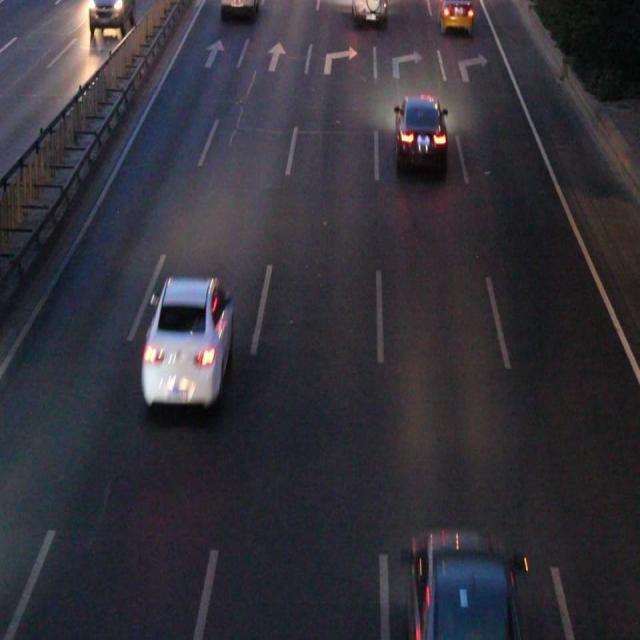car: (408, 532, 526, 640), (143, 279, 232, 404), (393, 99, 446, 170), (439, 1, 471, 27), (352, 1, 384, 20)
